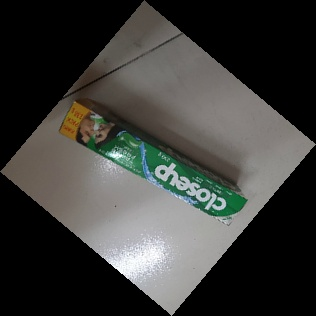CloseUp Xanh: (60, 97, 248, 227)
